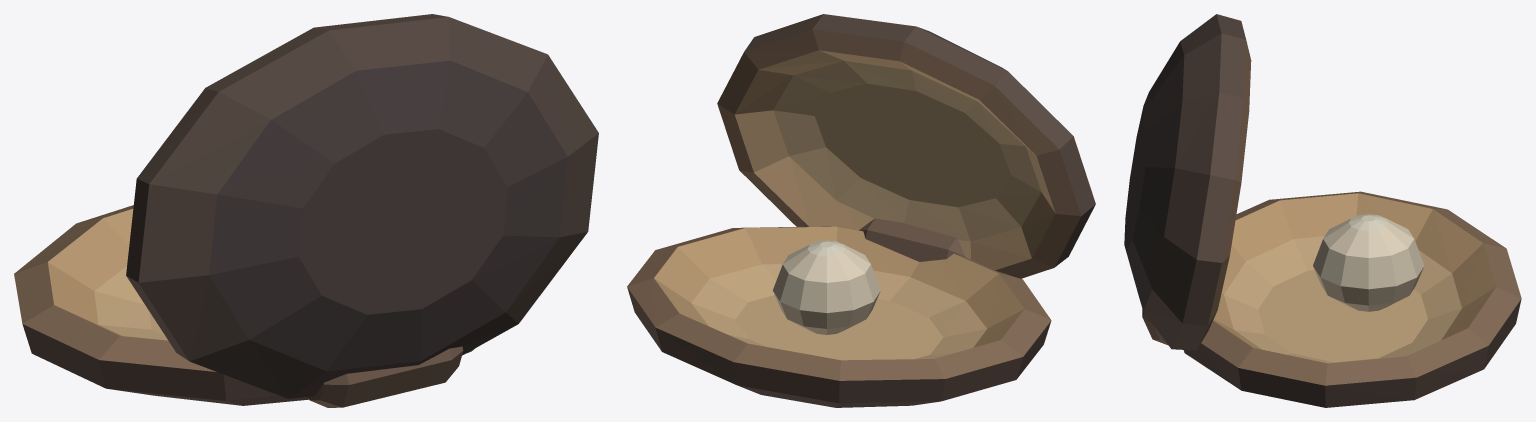
File: duenenmeer_05.glb
3 renders of one model, left to right at view 1: azimuth 30°, elevation 25°; view 2: azimuth 150°, elevation 25°; view 3: azimuth 270°, elevation 25°, orthographic. The views are drawn at different scales.
Visible parts, largest first — view 1: duenenmeer_05; view 2: duenenmeer_05; view 3: duenenmeer_05.
Part boxes in pixels (x1,y1,x2,y2): duenenmeer_05: (14, 14, 598, 407); duenenmeer_05: (627, 14, 1095, 407); duenenmeer_05: (1124, 14, 1521, 407).
Size of the model in its own units: 2 by 1.53 by 1.73.
